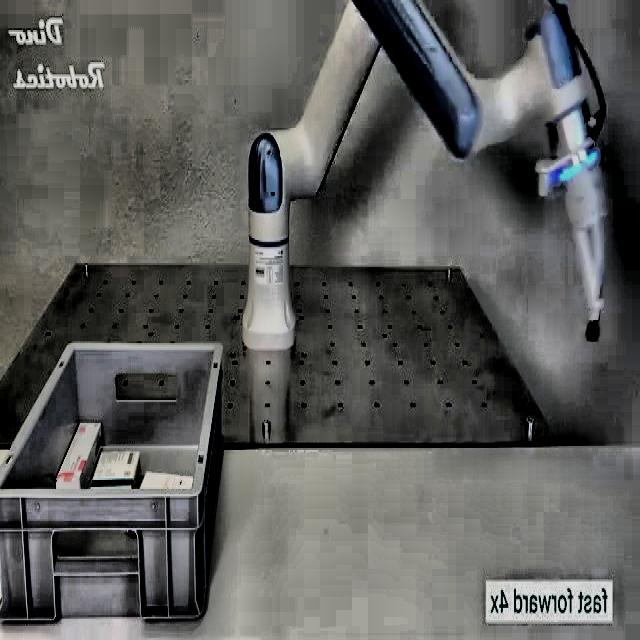robot: (242, 0, 609, 352)
